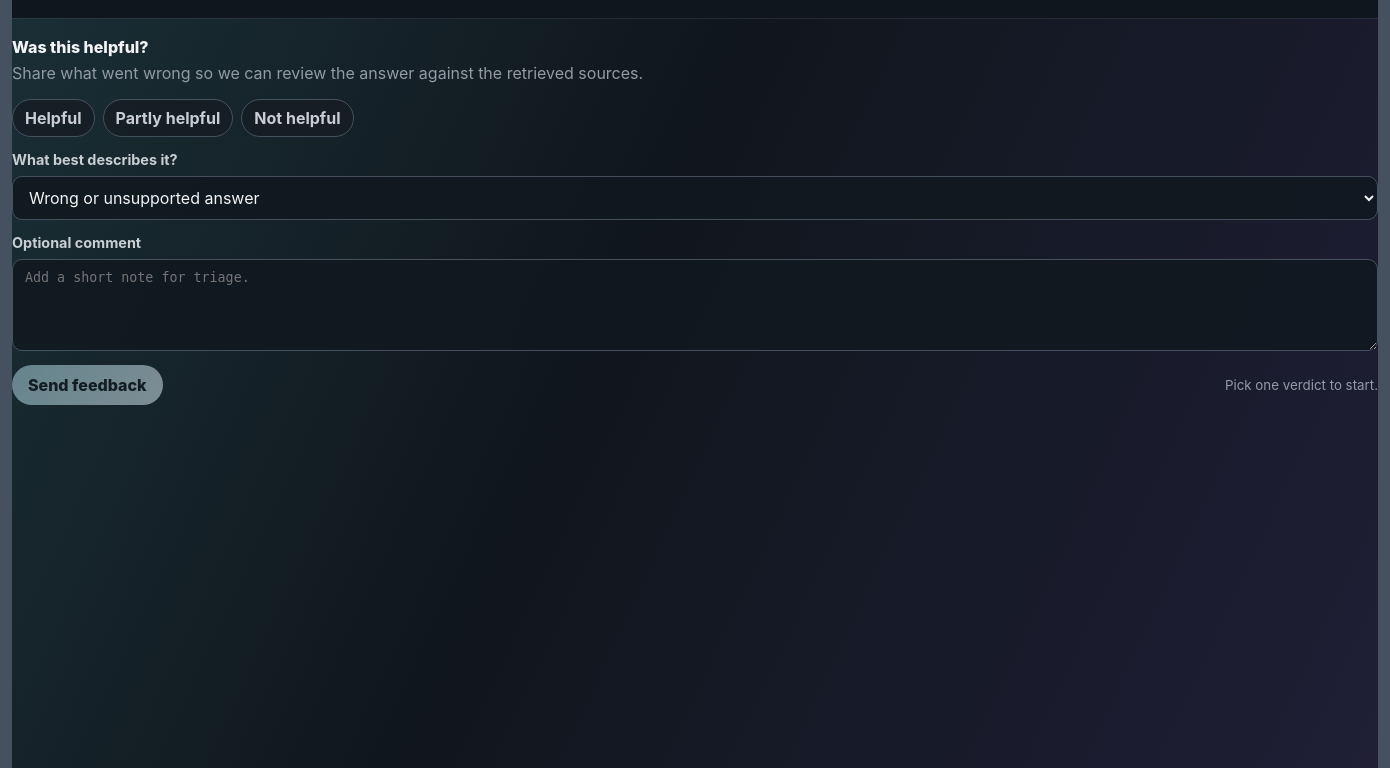
Test case: shows a friendly error when persistence is unavailable
Click the button "Not helpful". click: (297, 118)
box: [241,99,354,137]
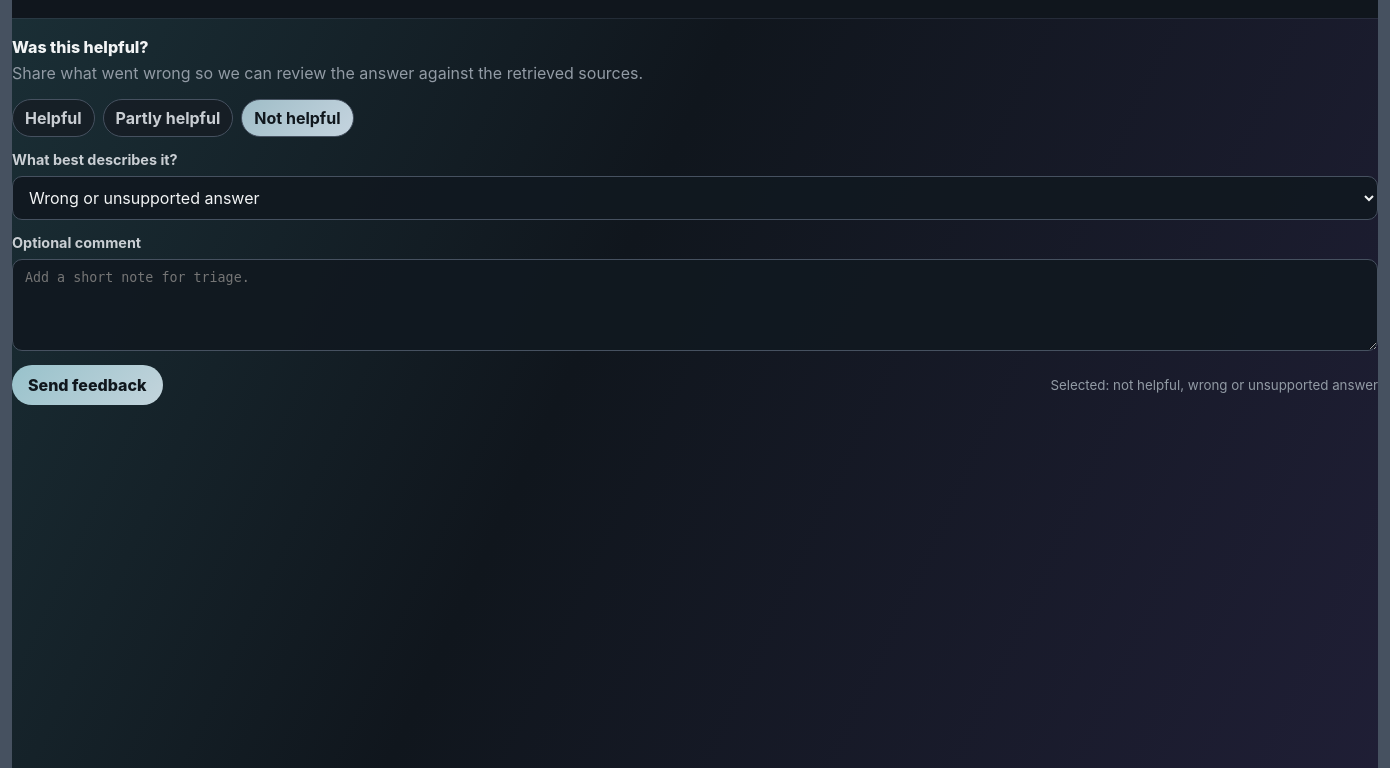
Click the button "Send feedback". click: (87, 385)
box: [12,365,162,405]
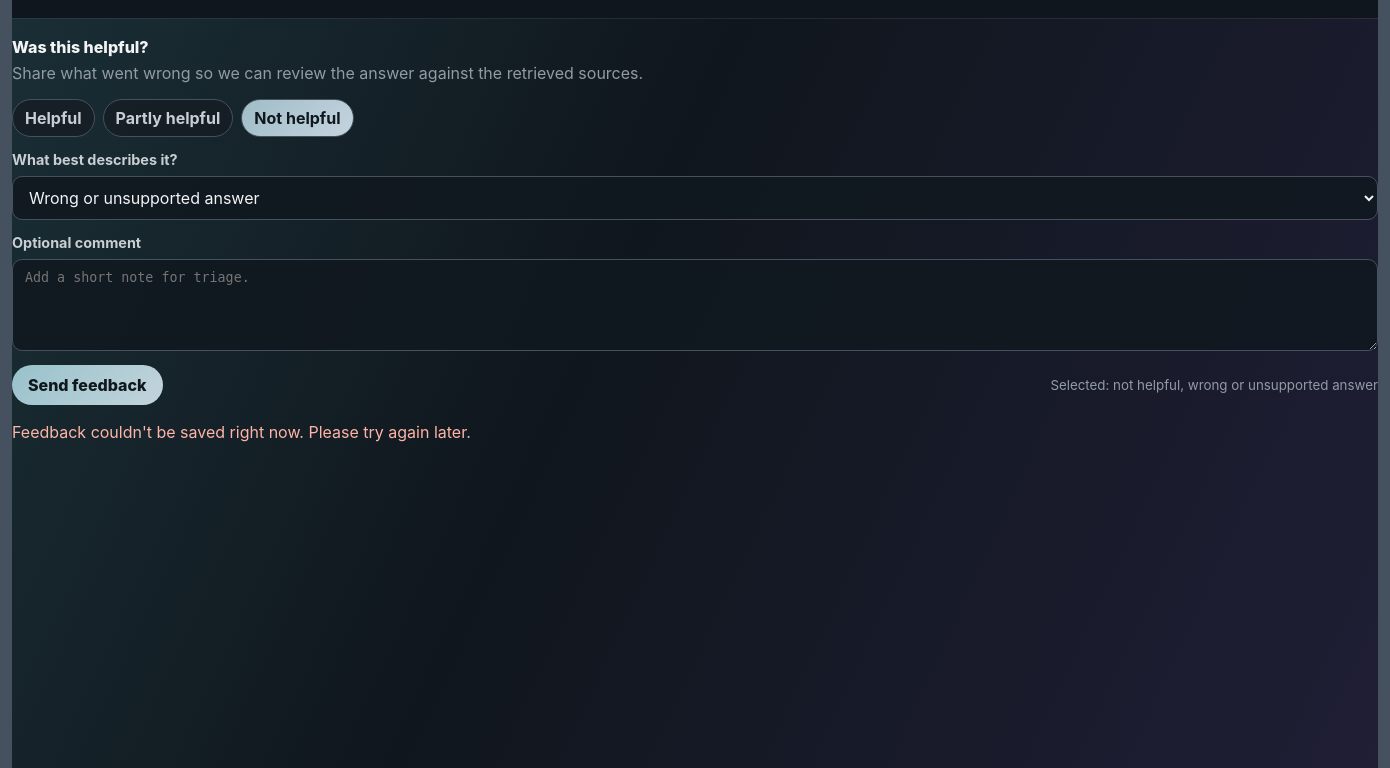
expect the text "Feedback couldn't be saved right now. Please try again later." is shown: met, box [12,422,471,442]
